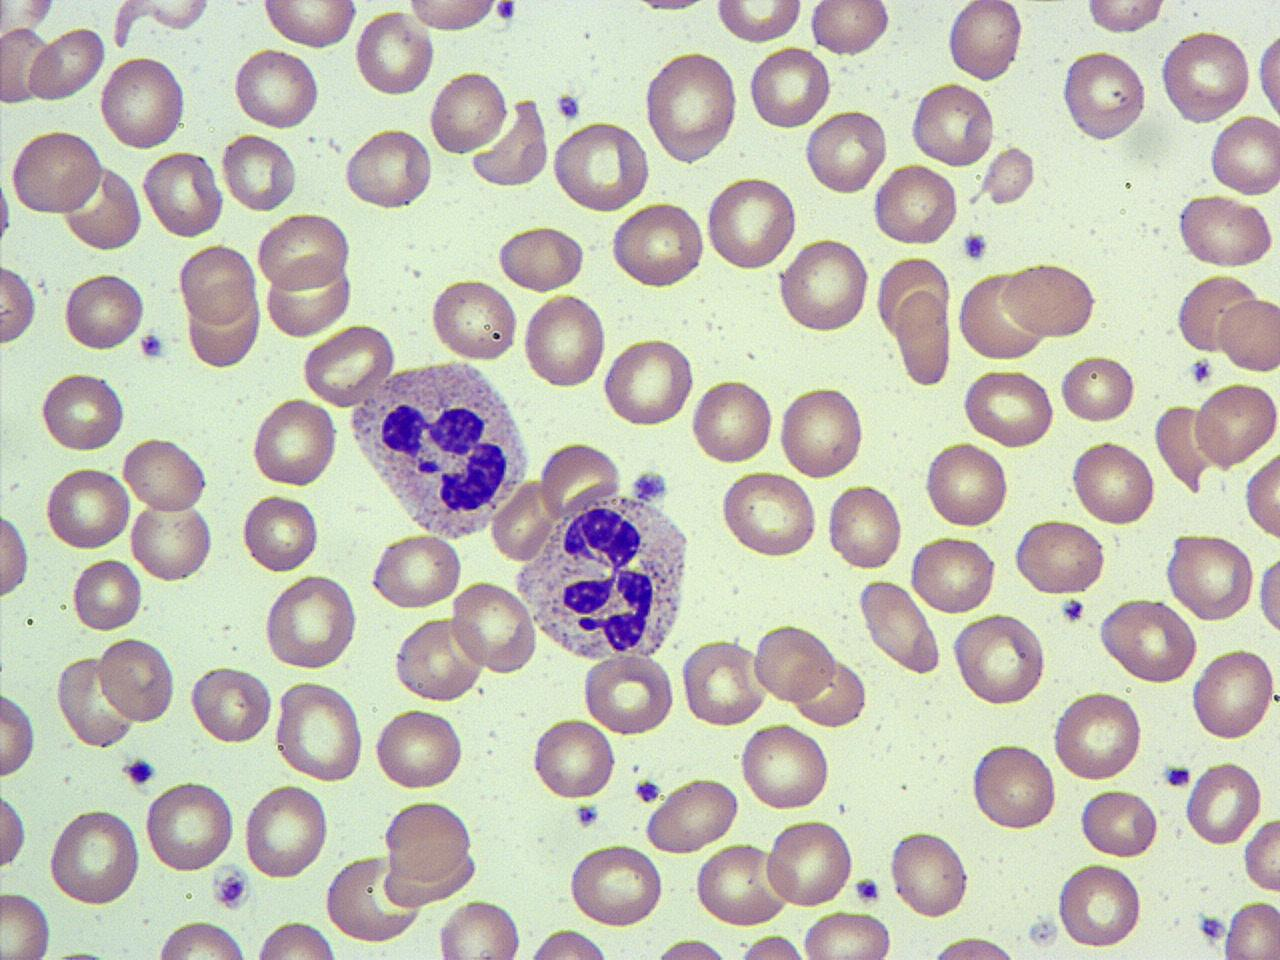Platelets: (210, 864, 252, 910), (629, 468, 669, 502), (136, 328, 167, 362), (1195, 912, 1229, 942), (123, 756, 157, 786), (959, 230, 990, 262), (553, 91, 582, 122), (853, 875, 881, 905), (1060, 596, 1089, 624), (1189, 356, 1215, 386), (1161, 764, 1191, 790), (634, 778, 663, 804), (573, 802, 600, 828), (494, 1, 517, 22)
RBC: (641, 48, 741, 165), (262, 571, 361, 673), (272, 677, 366, 784), (46, 804, 142, 908), (776, 234, 872, 337), (321, 853, 424, 948), (1162, 528, 1258, 626), (703, 174, 797, 274), (551, 119, 652, 212), (96, 52, 188, 153), (240, 781, 330, 884), (952, 611, 1048, 708), (143, 776, 238, 874), (720, 468, 820, 560), (7, 126, 106, 219), (776, 382, 866, 484), (1097, 597, 1199, 686), (1158, 30, 1254, 125), (600, 336, 695, 430), (1050, 690, 1146, 784), (609, 200, 706, 292), (566, 838, 664, 930), (520, 290, 608, 392), (300, 321, 400, 408), (1189, 644, 1277, 744), (968, 739, 1058, 835), (580, 649, 676, 739), (1059, 48, 1149, 145), (450, 579, 538, 677), (392, 614, 488, 704), (855, 577, 943, 674), (692, 840, 790, 928), (738, 722, 830, 814), (762, 817, 854, 910), (250, 394, 340, 489), (956, 269, 1047, 362), (884, 826, 974, 920), (1070, 436, 1158, 530), (923, 437, 1010, 532), (370, 706, 466, 792), (428, 275, 520, 364), (688, 375, 776, 468), (1054, 860, 1144, 950), (679, 638, 768, 728), (341, 125, 433, 211), (380, 798, 476, 880), (1172, 193, 1274, 270), (909, 79, 996, 169), (55, 652, 134, 752), (959, 366, 1055, 448), (1192, 379, 1278, 470), (1002, 260, 1101, 339), (353, 7, 436, 100), (642, 776, 742, 854), (369, 530, 464, 612), (530, 714, 618, 802), (255, 212, 353, 290), (747, 43, 833, 132), (427, 68, 510, 159), (44, 466, 132, 552), (231, 47, 321, 131), (62, 162, 144, 254), (1012, 518, 1108, 596), (910, 533, 999, 617), (871, 163, 959, 247), (804, 107, 888, 196), (825, 481, 906, 573), (97, 632, 177, 724), (752, 620, 838, 706), (187, 662, 274, 746), (62, 268, 147, 355), (141, 151, 224, 240), (1183, 756, 1263, 848), (471, 100, 550, 191), (263, 258, 354, 338), (38, 371, 126, 453), (121, 434, 210, 514), (128, 500, 213, 584), (538, 439, 621, 523), (1174, 272, 1258, 355), (240, 492, 321, 578), (944, 0, 1024, 86), (177, 243, 258, 327), (495, 223, 588, 295), (220, 131, 300, 213), (26, 24, 107, 104), (186, 287, 261, 372), (378, 846, 479, 908), (1153, 400, 1219, 494), (1208, 112, 1280, 198), (1078, 786, 1160, 860), (892, 290, 954, 387), (70, 554, 144, 634), (792, 654, 870, 730), (1058, 352, 1138, 426), (491, 477, 558, 562), (434, 898, 526, 959), (1218, 294, 1280, 374), (260, 0, 358, 50), (798, 909, 894, 959), (808, 0, 890, 58), (0, 28, 56, 106), (712, 0, 805, 46), (152, 918, 251, 959), (111, 0, 217, 36), (402, 0, 505, 36), (1, 890, 54, 960), (978, 144, 1036, 208), (251, 919, 340, 959), (1221, 899, 1279, 960), (0, 690, 38, 782), (0, 260, 38, 348), (1243, 450, 1279, 541), (1241, 813, 1279, 896), (1083, 0, 1169, 37), (1253, 14, 1279, 131), (0, 506, 31, 602), (524, 927, 612, 960), (920, 934, 1027, 960), (1255, 544, 1279, 647), (0, 788, 28, 874), (1, 0, 60, 39), (732, 932, 812, 960), (648, 936, 738, 960)
WBC: (344, 355, 534, 543), (510, 490, 696, 666)
